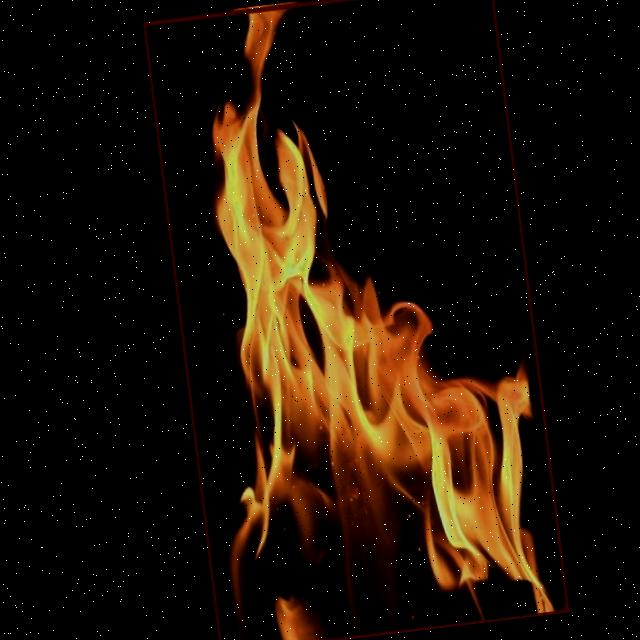fire: (143, 0, 570, 640)
